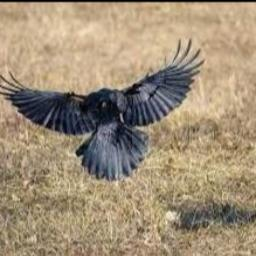Crow: (0, 37, 207, 180)
